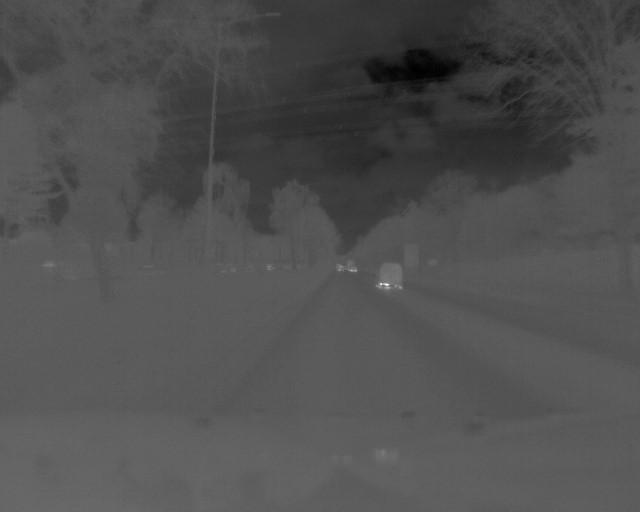car: (373, 259, 405, 291)
